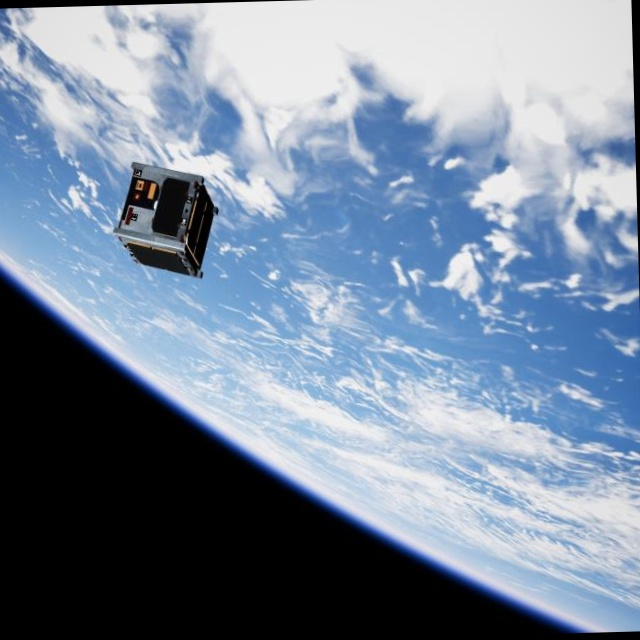medium_debris: (113, 154, 227, 282)
